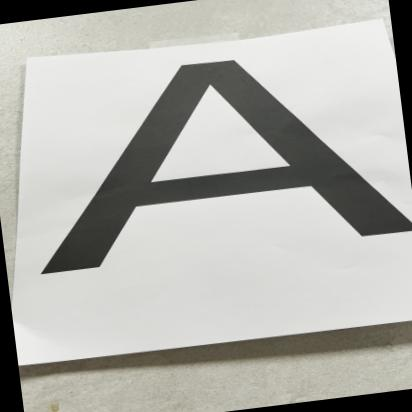seat: (0, 29, 412, 313)
